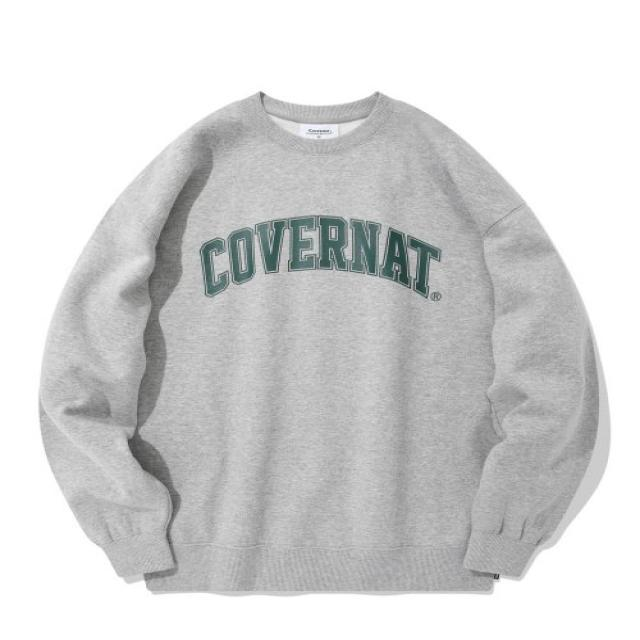sweater: (32, 89, 606, 600)
